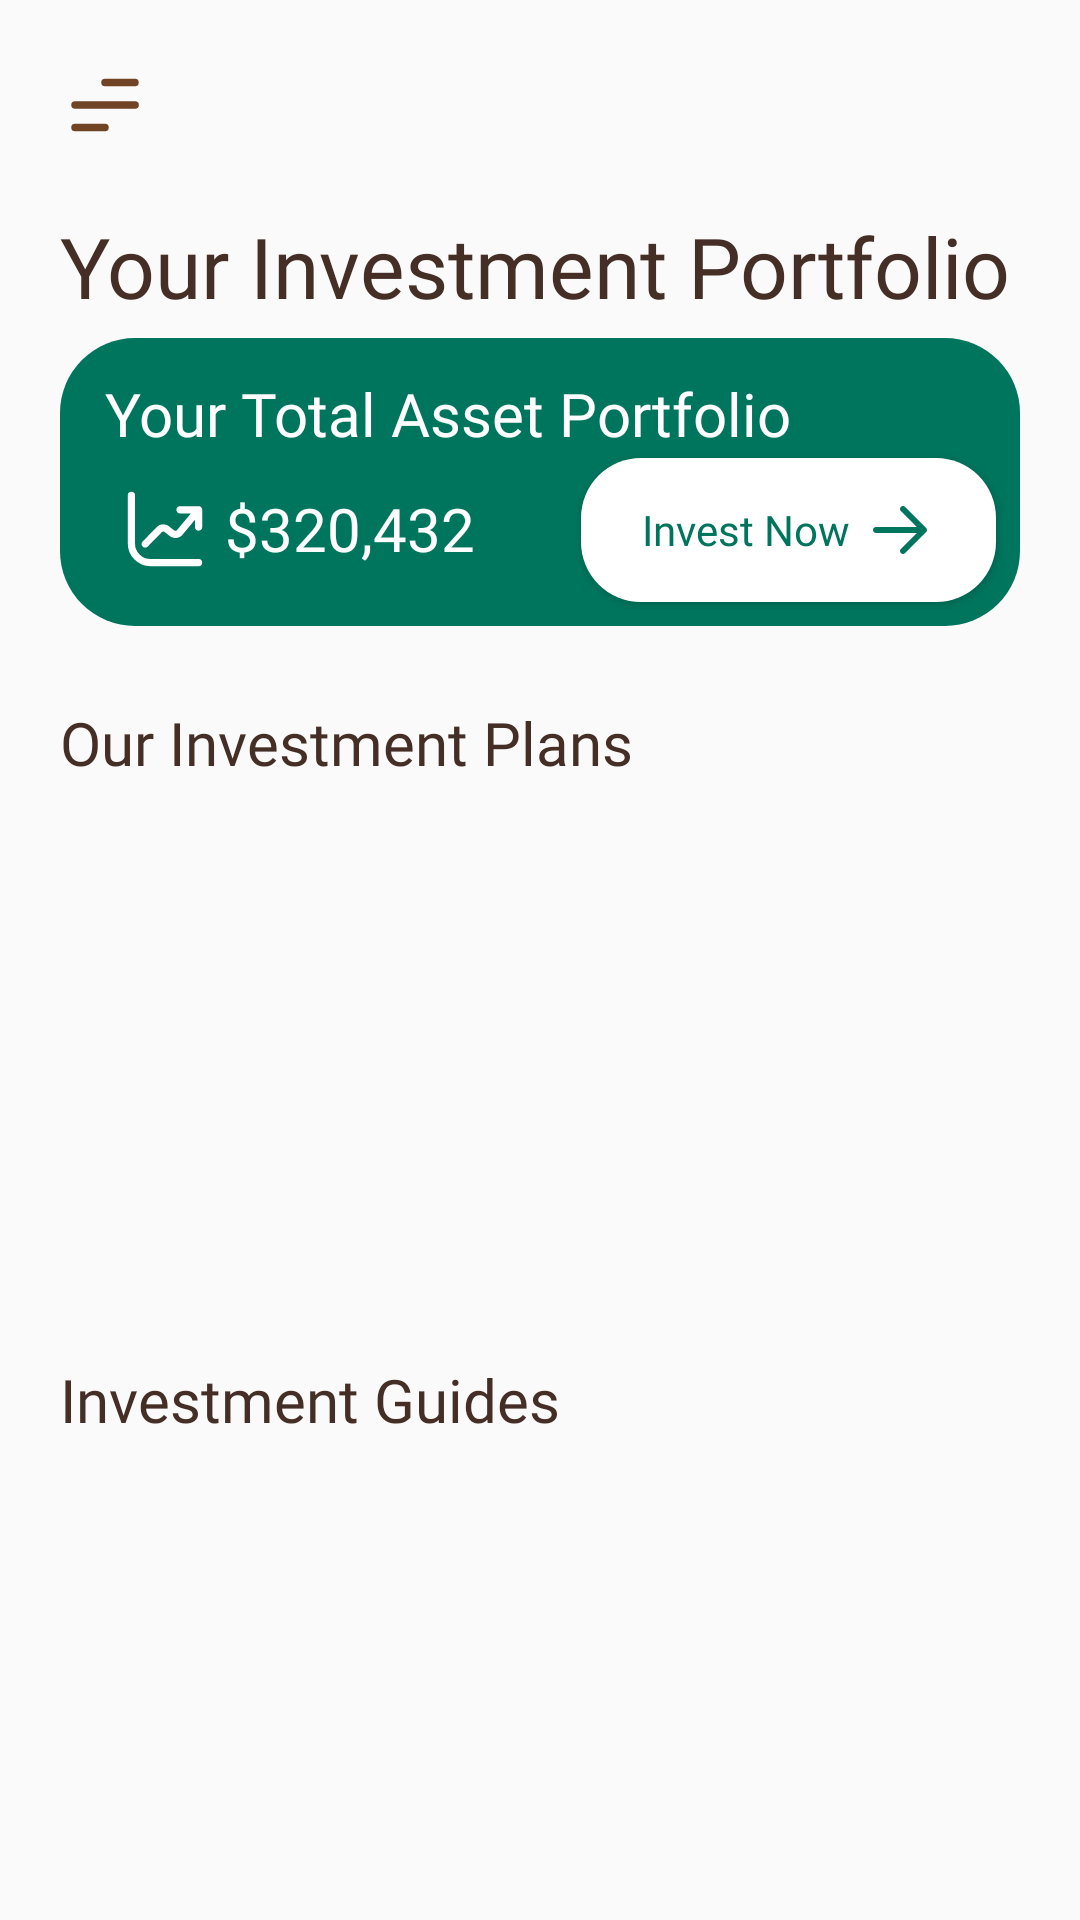

Named icons in this screenshot (1080×1920) and their centers, (x=x, y=y):
graph up: (x=165, y=529)
menu: (x=105, y=105)
